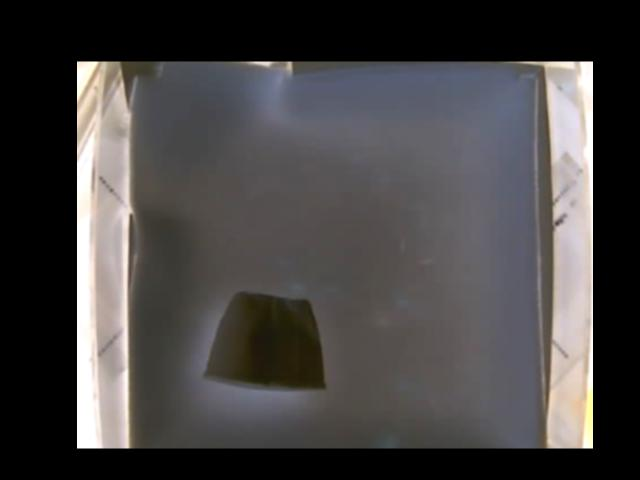Cup: (203, 288, 325, 394)
